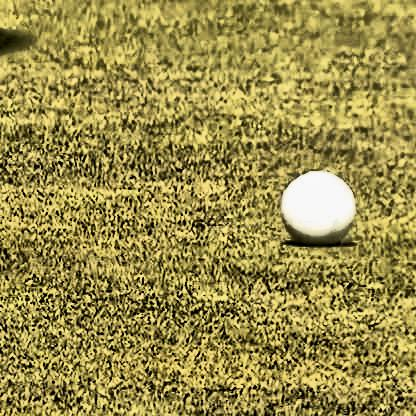golfball: (281, 180, 346, 239)
